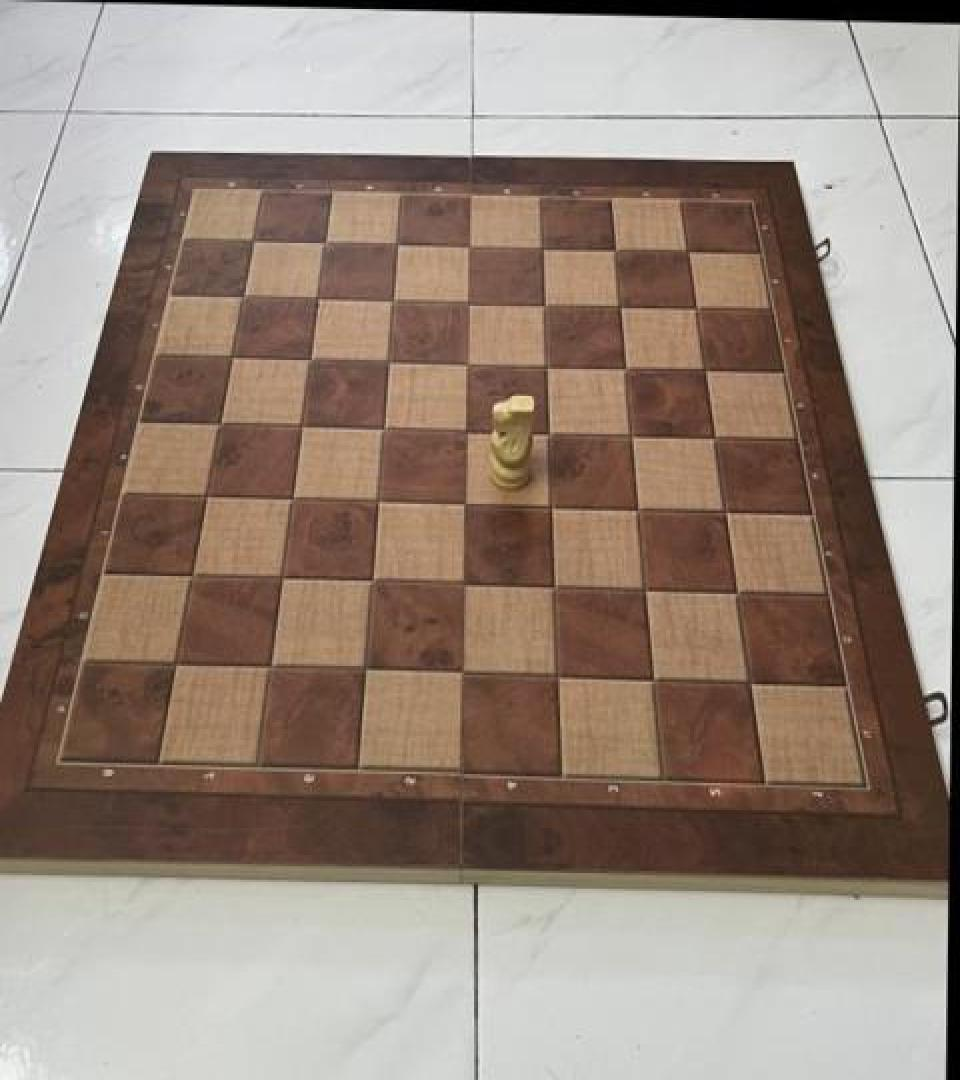xcorner: (237, 219, 271, 258), (216, 335, 250, 374), (449, 481, 483, 520), (448, 562, 482, 601), (159, 642, 193, 681), (309, 222, 343, 260), (382, 224, 416, 262), (454, 226, 488, 264), (527, 228, 561, 266), (599, 230, 633, 268), (672, 232, 706, 270), (227, 274, 261, 312), (302, 277, 336, 315), (378, 279, 412, 317), (453, 282, 487, 320), (529, 284, 563, 322), (604, 286, 638, 324), (680, 288, 714, 326), (294, 338, 328, 376), (373, 340, 407, 378), (452, 342, 486, 380), (531, 346, 565, 384), (610, 348, 644, 386), (689, 350, 723, 388), (203, 402, 237, 440), (286, 404, 320, 442), (368, 406, 402, 444), (451, 408, 485, 446), (533, 412, 567, 450), (616, 414, 650, 452), (699, 416, 733, 454), (190, 474, 224, 512), (276, 476, 310, 514), (363, 480, 397, 518), (536, 485, 570, 523), (623, 487, 657, 525), (710, 490, 744, 528), (175, 554, 209, 592), (266, 557, 300, 595), (357, 559, 391, 597), (539, 565, 573, 603), (630, 568, 664, 606), (721, 572, 755, 610), (255, 645, 289, 683), (350, 648, 384, 686), (446, 652, 480, 690), (542, 655, 576, 693), (638, 657, 672, 695), (734, 660, 768, 698)
